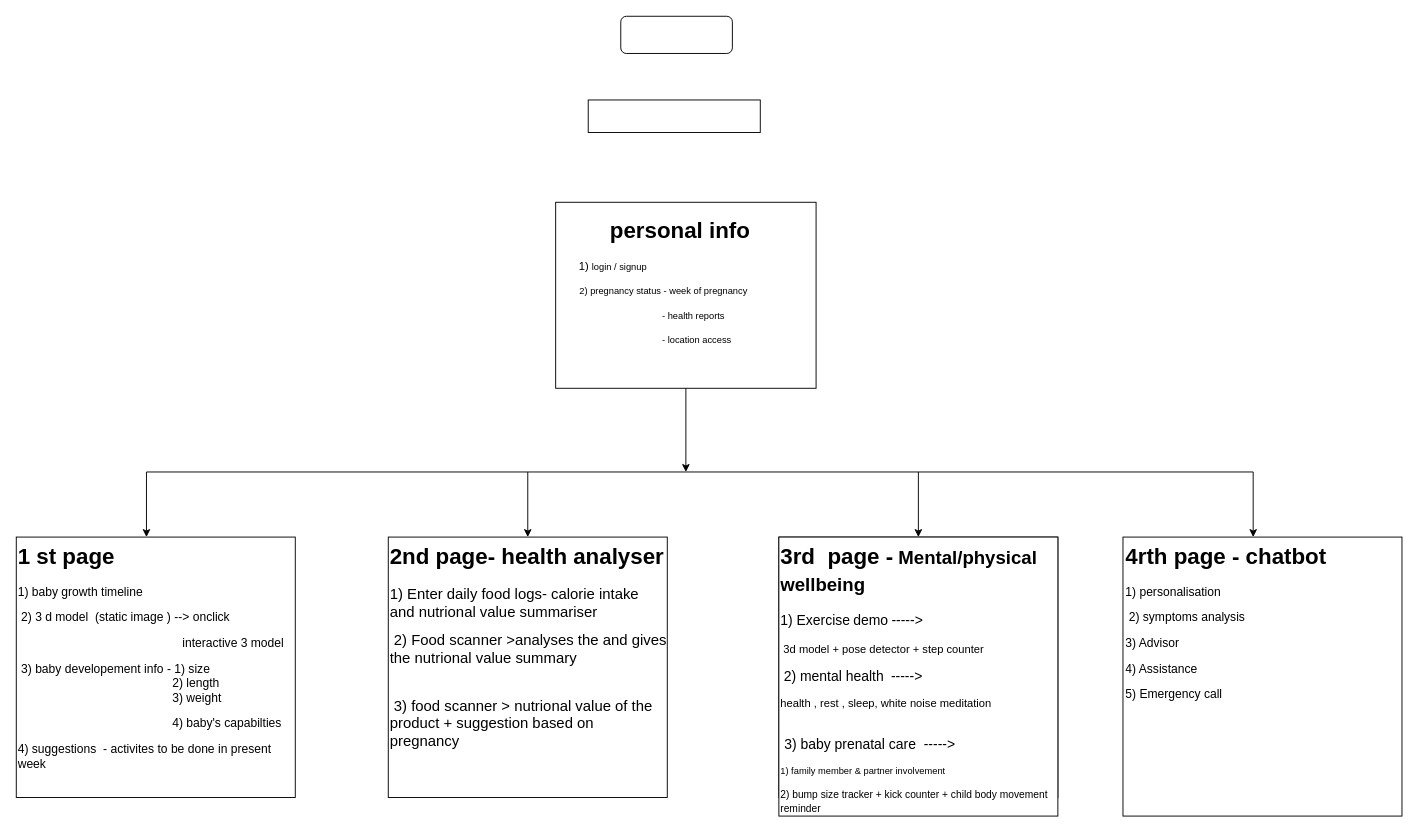
Image size: 1419x835. Some labels were removed from this diagram. The shapes that lost their labels are listed below. From the top down, each one's centre as x and y in pixels, then its label:
the point at 676,34: start
the point at 673,116: splash screen
